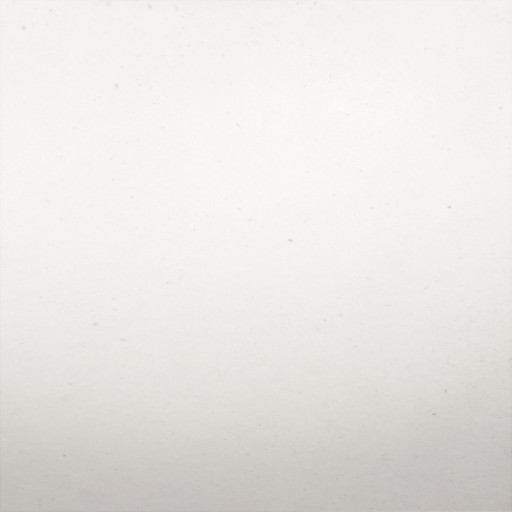lego: (225, 198, 283, 315)
